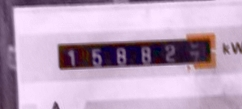1: (64, 47, 77, 66)
2: (163, 43, 176, 62)
5: (89, 46, 102, 66)
7: (188, 49, 200, 63)
8: (114, 45, 127, 66), (139, 44, 152, 65)
screen: (49, 28, 225, 77)
